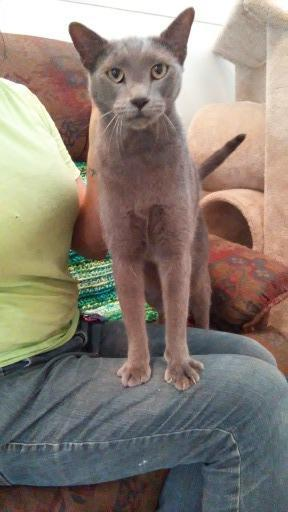rblue: (60, 1, 208, 151)
